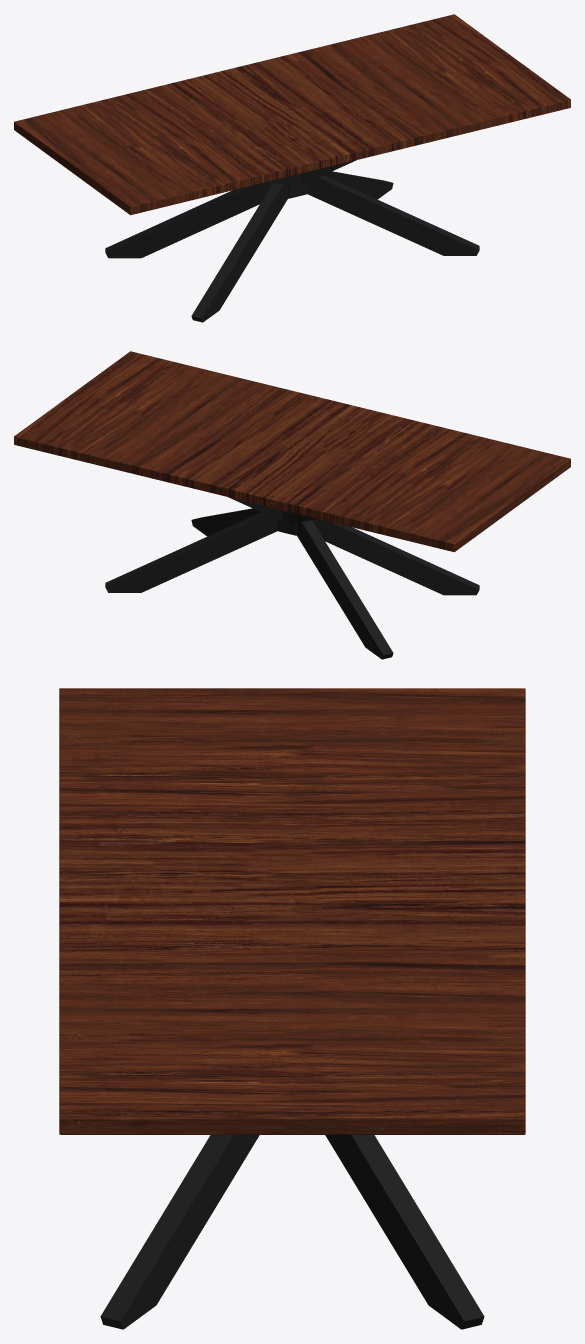
Rendered from spider-table.glb.
3 views of the same model, one above another, from view 1: azimuth 30°, elevation 25°; view 2: azimuth 150°, elevation 25°; view 3: azimuth 270°, elevation 25° (orthographic). The views are drawn at different scales.
Parts seen in each view (by area): view 1: TableTop, Leg_-1_1, Leg_1_-1, Leg_-1_-1, Leg_1_1; view 2: TableTop, Leg_-1_-1, Leg_1_1, Leg_-1_1, Leg_1_-1; view 3: TableTop, Leg_1_1, Leg_1_-1.
Boxes of the visible parts, x1=… form: TableTop: x1=14, y1=14, x2=570, y2=215; Leg_-1_1: x1=105, y1=160, x2=356, y2=258; Leg_1_-1: x1=307, y1=175, x2=479, y2=255; Leg_-1_-1: x1=191, y1=183, x2=287, y2=322; Leg_1_1: x1=268, y1=171, x2=393, y2=199; TableTop: x1=14, y1=351, x2=570, y2=552; Leg_-1_-1: x1=228, y1=497, x2=479, y2=595; Leg_1_1: x1=105, y1=512, x2=277, y2=592; Leg_-1_1: x1=297, y1=520, x2=393, y2=659; Leg_1_-1: x1=191, y1=508, x2=316, y2=536; TableTop: x1=59, y1=688, x2=525, y2=1134; Leg_1_1: x1=325, y1=1135, x2=484, y2=1329; Leg_1_-1: x1=100, y1=1135, x2=259, y2=1329.
Size of the model in its own units: 2.4 by 0.75 by 1.1.
2 materials, 1 textured.
